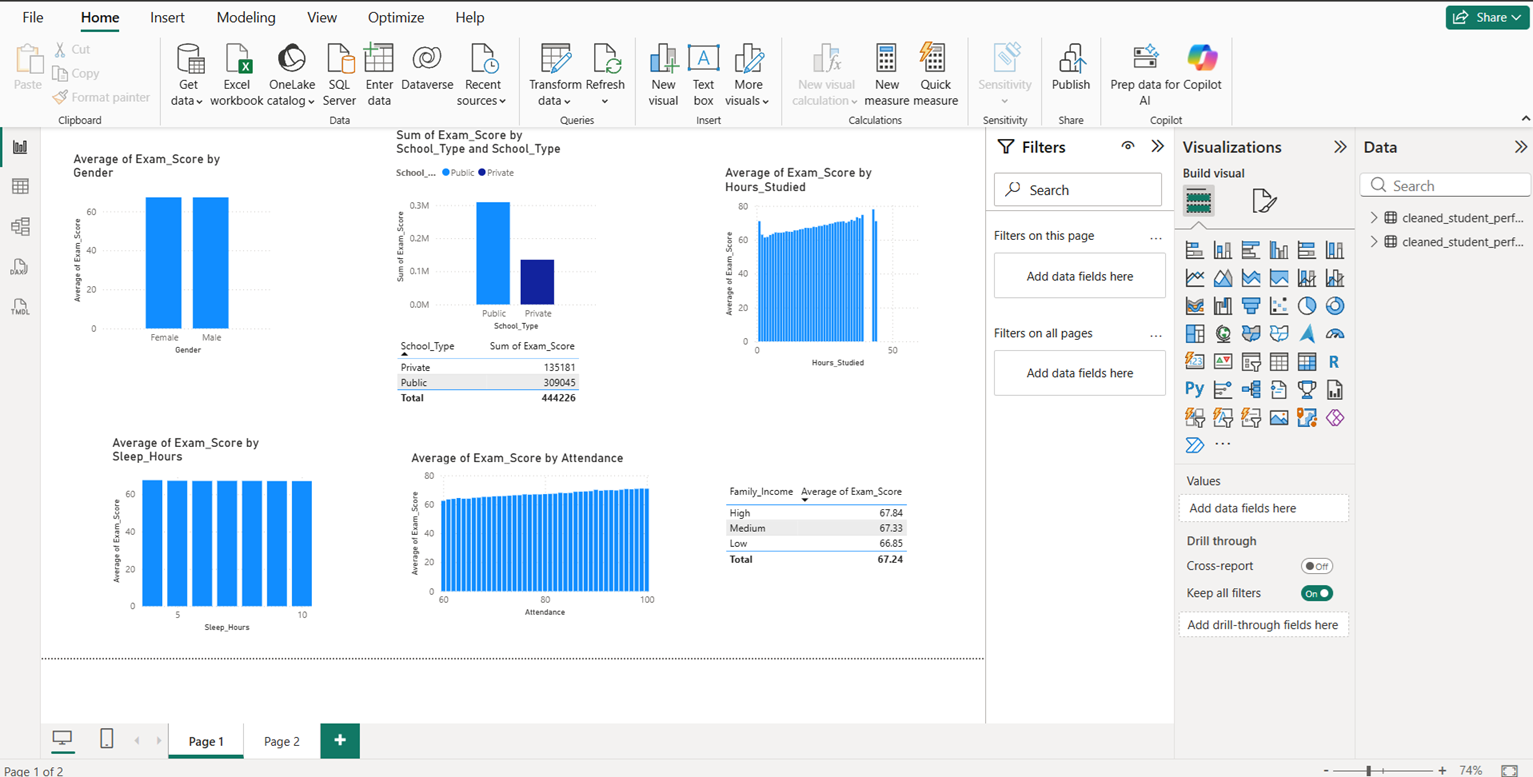

The page's visual inventory and layout, read from the dashboard file:
{"tool":"powerbi","page":{"name":"Page 1","canvas":[1280,720],"ordinal":0},"visuals":[{"type":"clusteredColumnChart","fields":{"Y":["Avg(cleaned_student_performance.Exam_Score)"],"Category":["cleaned_student_performance.Gender"]},"box":[39.3,32.5,280.4,280.4],"z":0},{"type":"columnChart","fields":{"Category":["cleaned_student_performance (2).School_Type"],"Series":["cleaned_student_performance (2).School_Type"],"Y":["Sum(cleaned_student_performance (2).Exam_Score)"]},"box":[476.9,0,280.4,280.4],"z":1},{"type":"tableEx","fields":{"Values":["cleaned_student_performance.School_Type","Sum(cleaned_student_performance.Exam_Score)"]},"box":[476.9,280.4,306.2,150.4],"z":2},{"type":"clusteredColumnChart","fields":{"Y":["Avg(cleaned_student_performance (2).Exam_Score)"],"Category":["cleaned_student_performance (2).Hours_Studied"]},"box":[922.6,51.5,280.4,279.1],"z":3},{"type":"clusteredColumnChart","fields":{"Y":["Avg(cleaned_student_performance (2).Exam_Score)"],"Category":["cleaned_student_performance (2).Sleep_Hours"]},"box":[92.1,417.3,280.4,272.3],"z":4},{"type":"clusteredColumnChart","fields":{"Y":["Avg(cleaned_student_performance (2).Exam_Score)"],"Category":["cleaned_student_performance (2).Attendance"]},"box":[497.2,437.6,340.1,231.7],"z":5},{"type":"tableEx","fields":{"Values":["cleaned_student_performance (2).Family_Income","Avg(cleaned_student_performance (2).Exam_Score)"]},"box":[922.6,478.2,338.7,150.4],"z":6}]}

Visuals, with their boxes on the page's 1280x720 design canvas (x1, y1, x2, y2). These are canvas units, not pixel positions in the 1533x777 screenshot, which may show the page scaled, cropped or inside an application window:
clusteredColumnChart - Avg(cleaned_student_performance.Exam_Score) x cleaned_student_performance.Gender: 39/32/320/313
columnChart - cleaned_student_performance (2).School_Type x cleaned_student_performance (2).School_Type: 477/0/757/280
tableEx - cleaned_student_performance.School_Type x Sum(cleaned_student_performance.Exam_Score): 477/280/783/431
clusteredColumnChart - Avg(cleaned_student_performance (2).Exam_Score) x cleaned_student_performance (2).Hours_Studied: 923/52/1203/331
clusteredColumnChart - Avg(cleaned_student_performance (2).Exam_Score) x cleaned_student_performance (2).Sleep_Hours: 92/417/372/690
clusteredColumnChart - Avg(cleaned_student_performance (2).Exam_Score) x cleaned_student_performance (2).Attendance: 497/438/837/669
tableEx - cleaned_student_performance (2).Family_Income x Avg(cleaned_student_performance (2).Exam_Score): 923/478/1261/629
